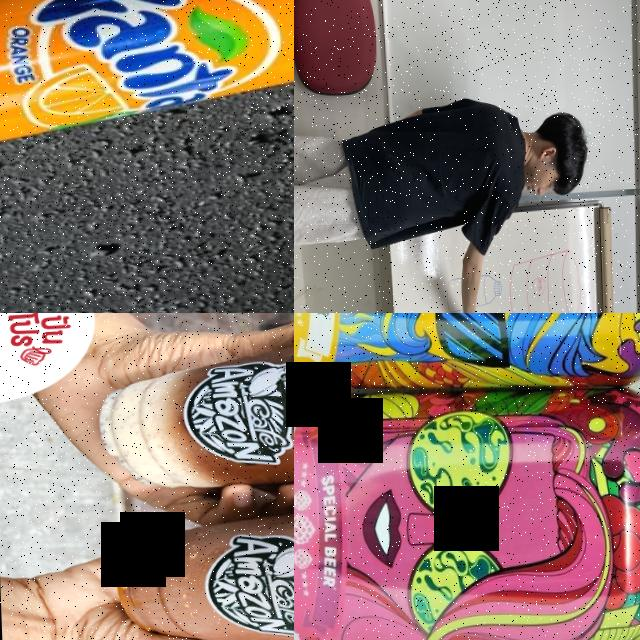can: (294, 380, 640, 640), (0, 0, 294, 173), (294, 313, 640, 402)
cup: (93, 313, 294, 497), (110, 470, 294, 640)
